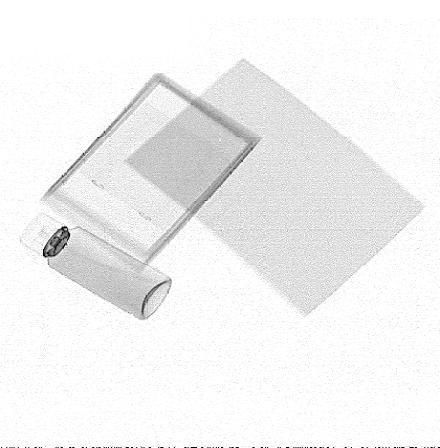Sprayer: (21, 213, 171, 320)
